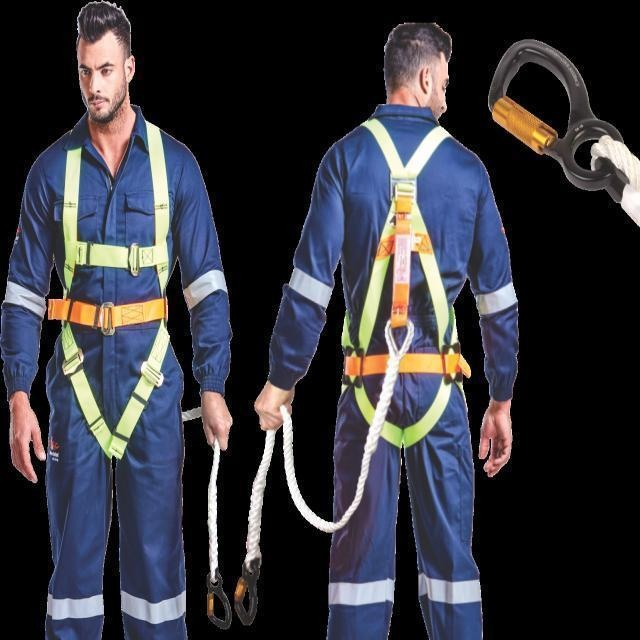Arnes_seguridad: (46, 117, 180, 463), (334, 112, 469, 454)
